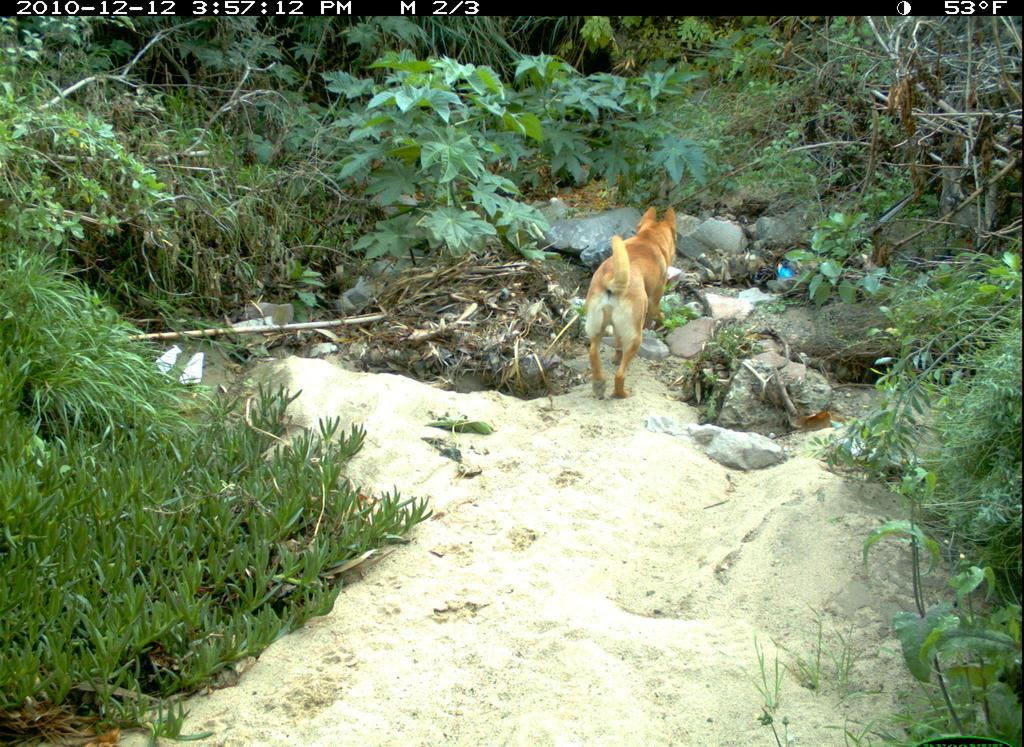dog: (575, 195, 692, 413)
